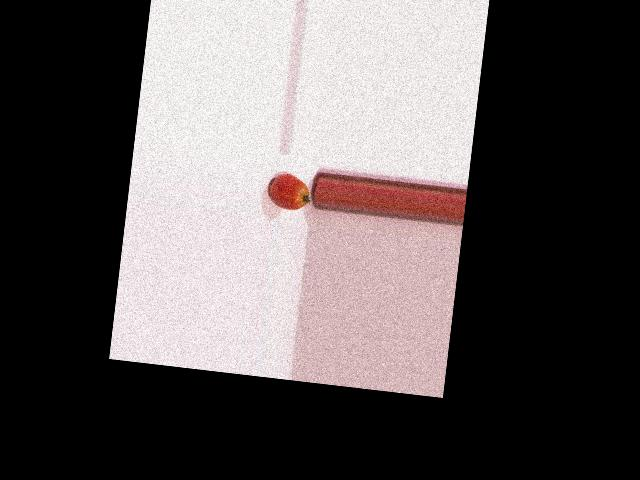tomato: (268, 172, 311, 211)
